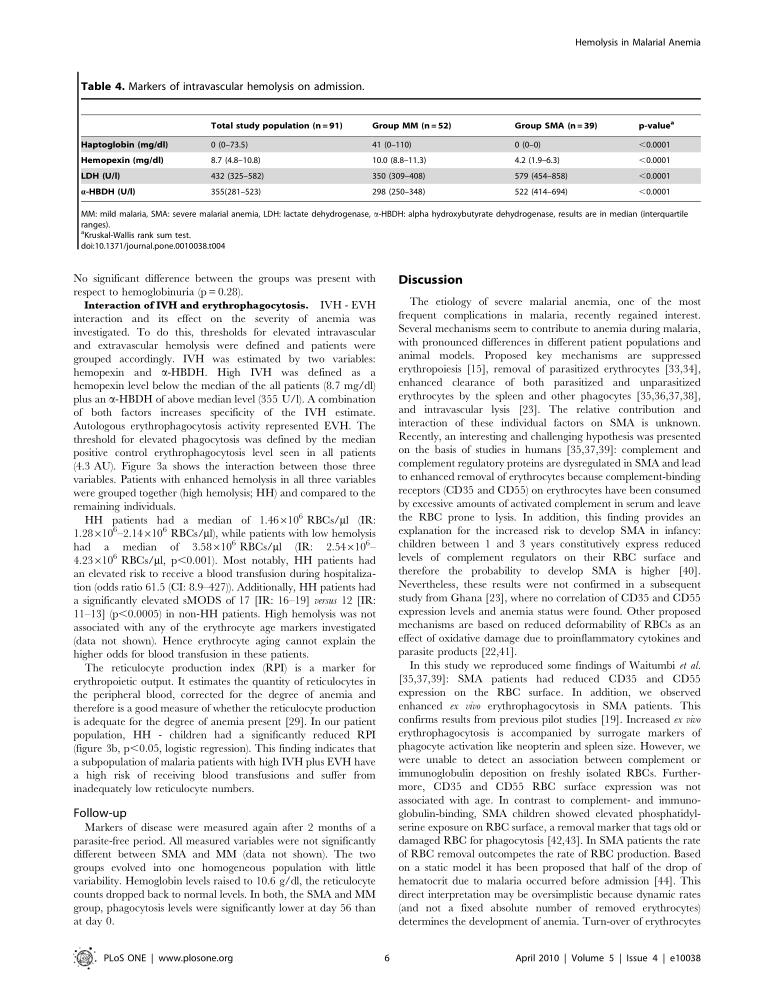table: (80, 120, 674, 196)
